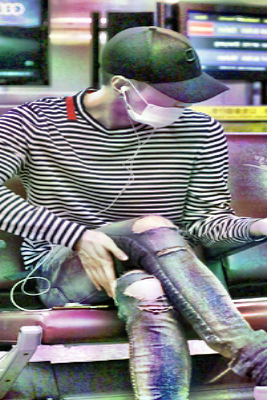mask_weared_incorrect: (127, 84, 191, 131)
